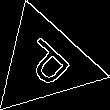P_SE: (14, 32, 77, 93)
